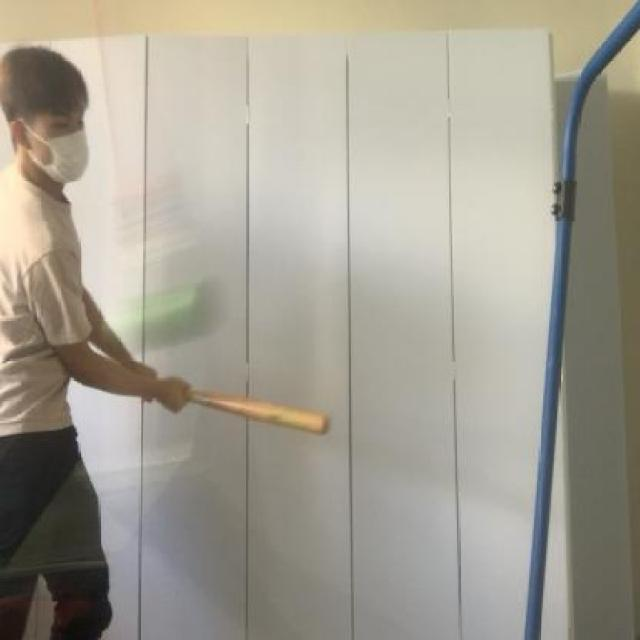baseball: (95, 277, 233, 352)
